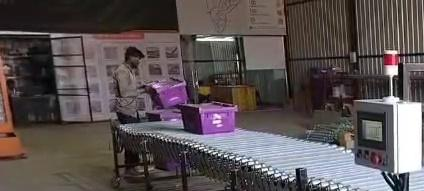box: (178, 102, 237, 134)
